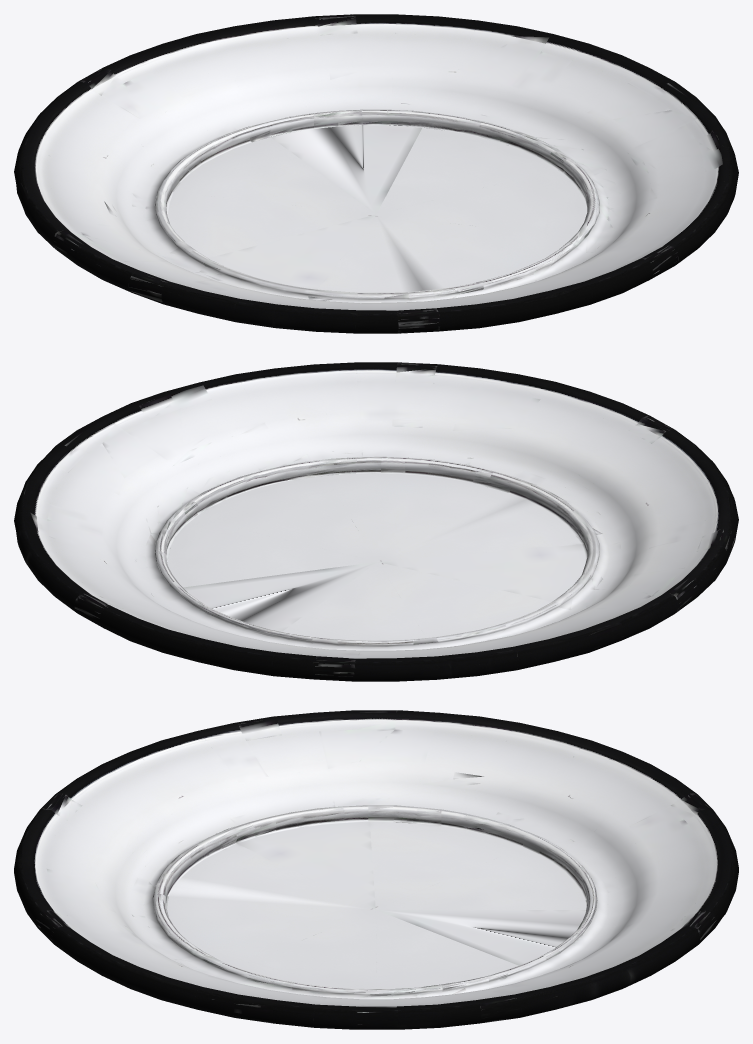
The model's file is Black_Trim_Acrylic_Charger_plate-_0308225840_texture.glb.
The picture shows the model from 3 angles, top to bottom: view 1: azimuth 30°, elevation 25°; view 2: azimuth 150°, elevation 25°; view 3: azimuth 270°, elevation 25°; orthographic projection.
Visible parts, largest first — view 1: Mesh_0; view 2: Mesh_0; view 3: Mesh_0.
Part boxes in pixels (left/top/right/bottom): Mesh_0: left=14, top=14, right=738, bottom=333; Mesh_0: left=14, top=362, right=738, bottom=681; Mesh_0: left=14, top=710, right=738, bottom=1029.
Bounding box in the file's own units: 0.2415 × 0.0254 × 0.2425.
Materials: 1 (1 with a texture image).
